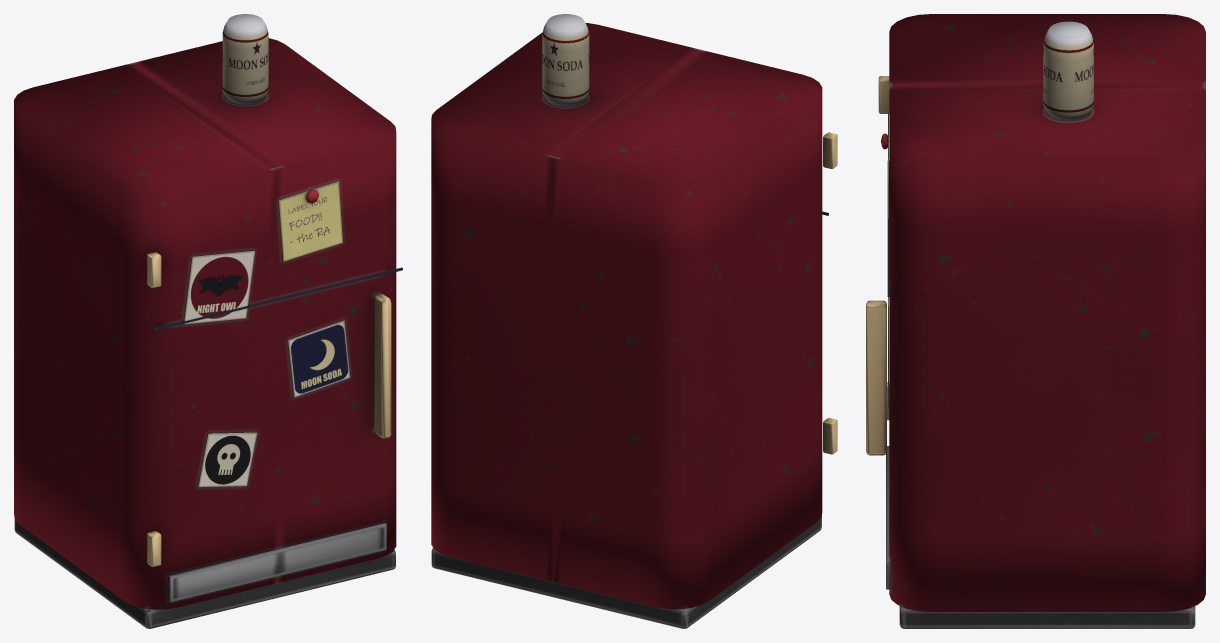
Rendered from MiniFridge.fbx.
The picture shows the model from 3 angles, left to right: view 1: azimuth 30°, elevation 25°; view 2: azimuth 150°, elevation 25°; view 3: azimuth 270°, elevation 25°; orthographic projection. The views are drawn at different scales.
Parts seen in each view (by area): view 1: MiniFridge; view 2: MiniFridge; view 3: MiniFridge.
Part boxes in pixels (left/top/right/bottom): MiniFridge: left=14, top=14, right=402, bottom=628; MiniFridge: left=431, top=14, right=837, bottom=628; MiniFridge: left=866, top=14, right=1205, bottom=628.
Size of the model in its own units: 160 by 293 by 161.
